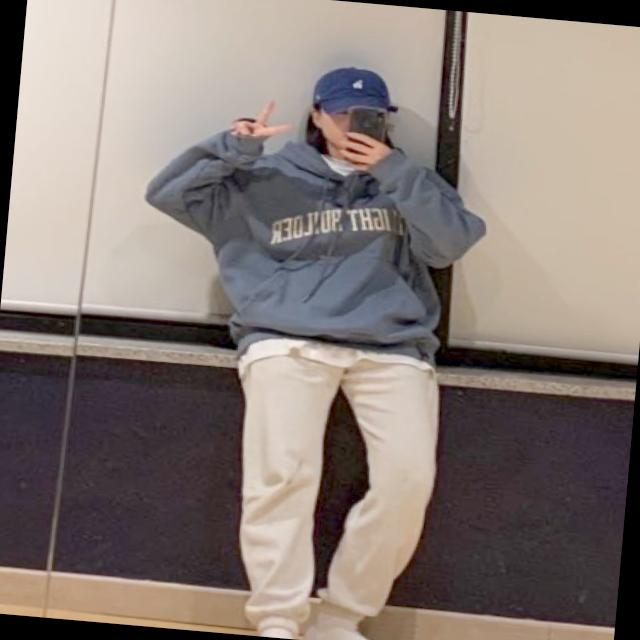hoodies: (132, 108, 490, 363)
trainingpants: (219, 335, 451, 640)
